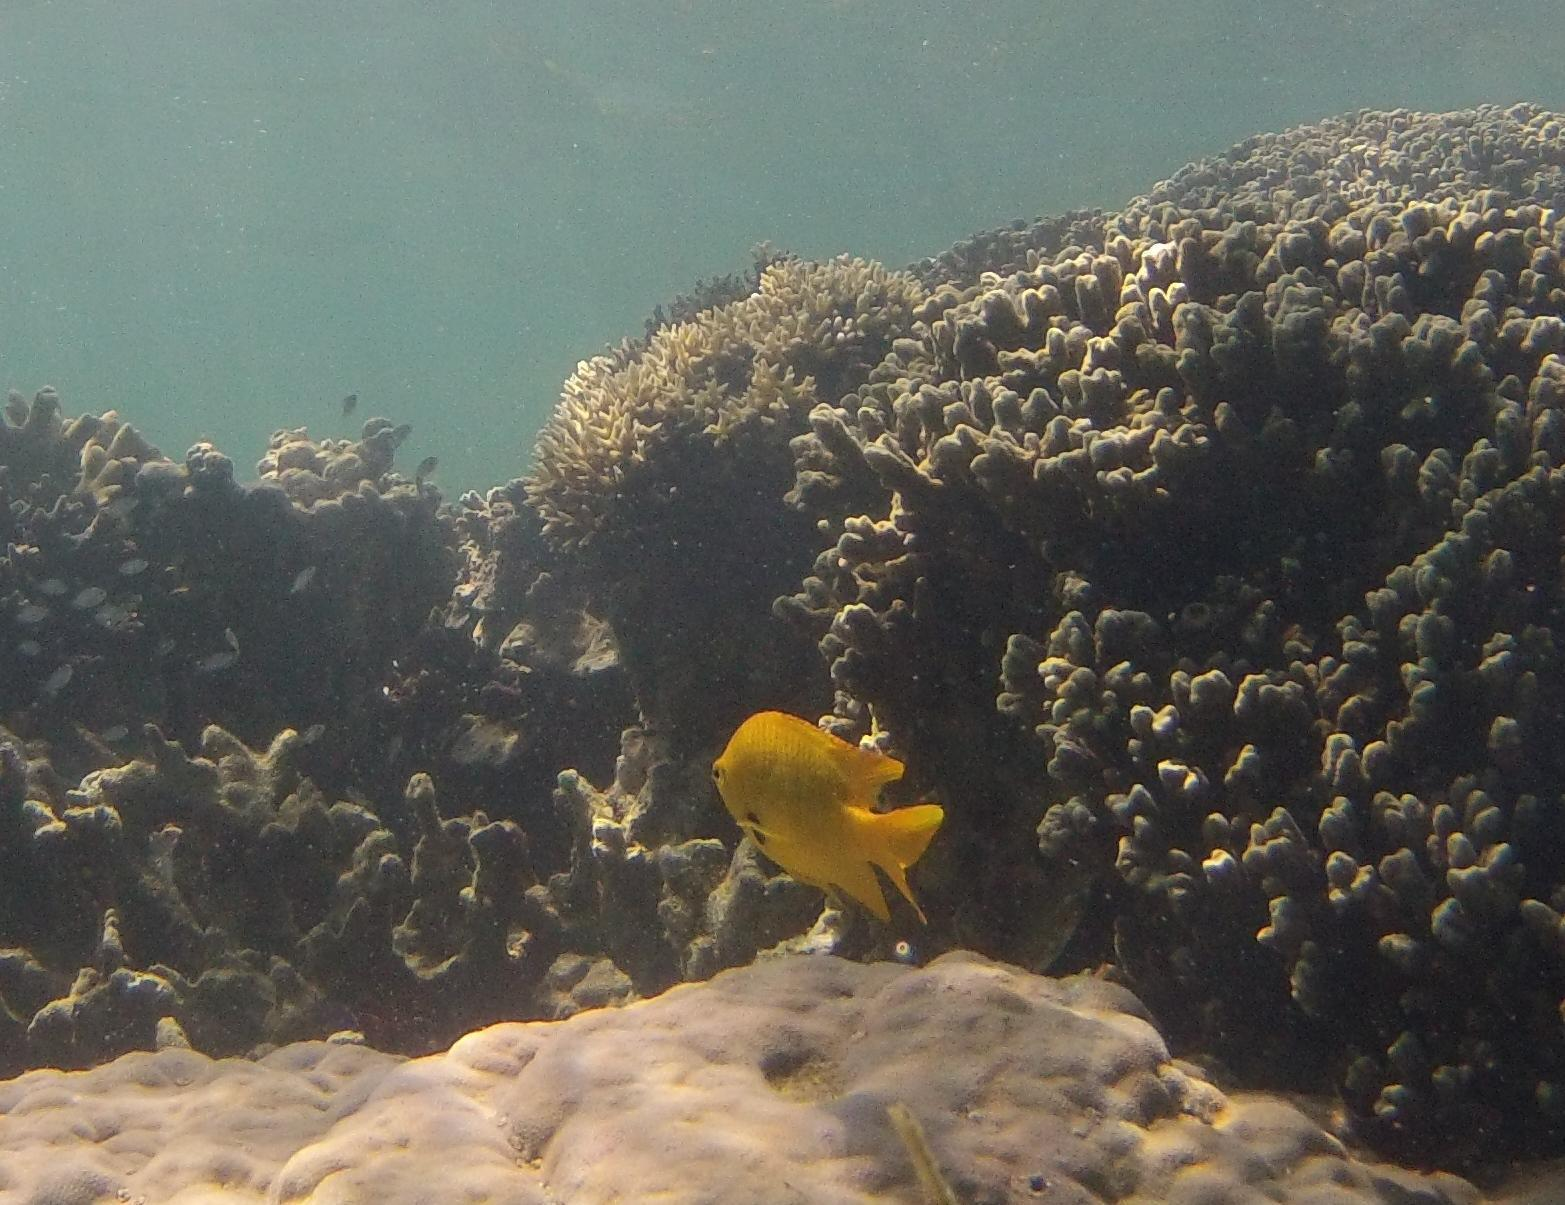Fish: (698, 678, 951, 934)
